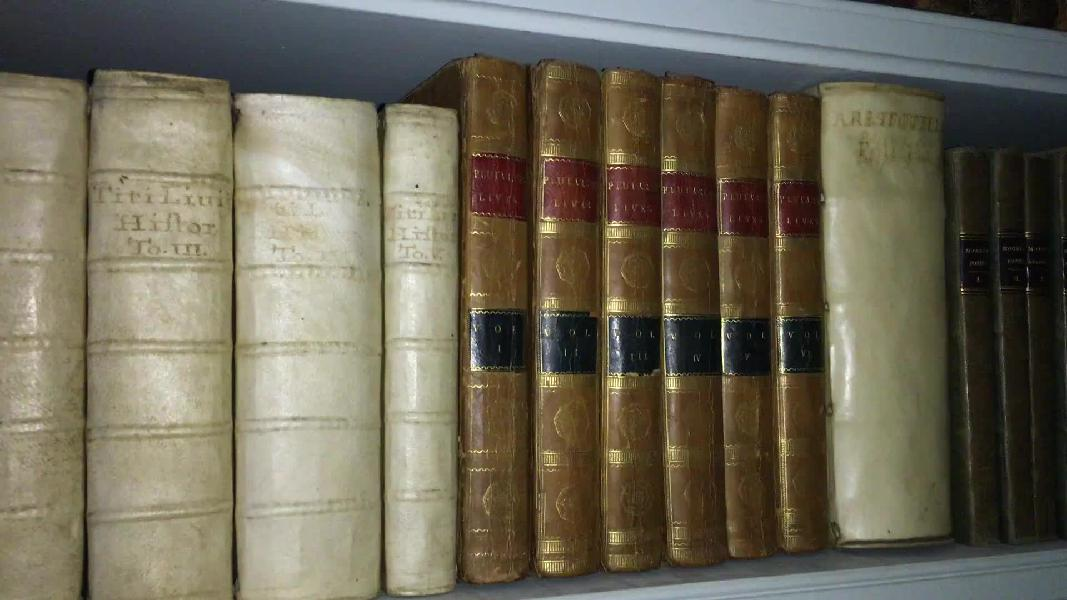Kk4-14: (811, 71, 961, 562)
Kk4-15_16: (938, 138, 1036, 562)
Kk4-3_7: (2, 55, 475, 600)
Kk4-8_13: (454, 43, 833, 578)
